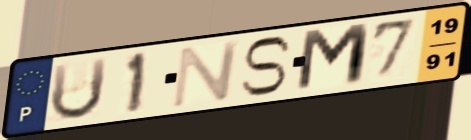1: (121, 49, 149, 117)
7: (368, 16, 421, 83)
M: (293, 21, 374, 96)
N: (169, 37, 244, 110)
S: (236, 34, 295, 98)
U: (47, 54, 111, 123)
